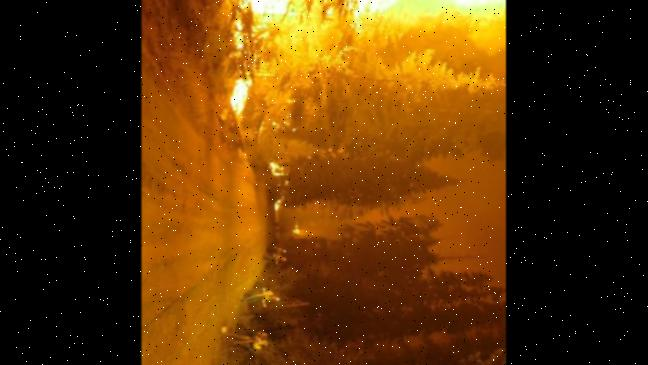fire: (213, 0, 505, 62)
